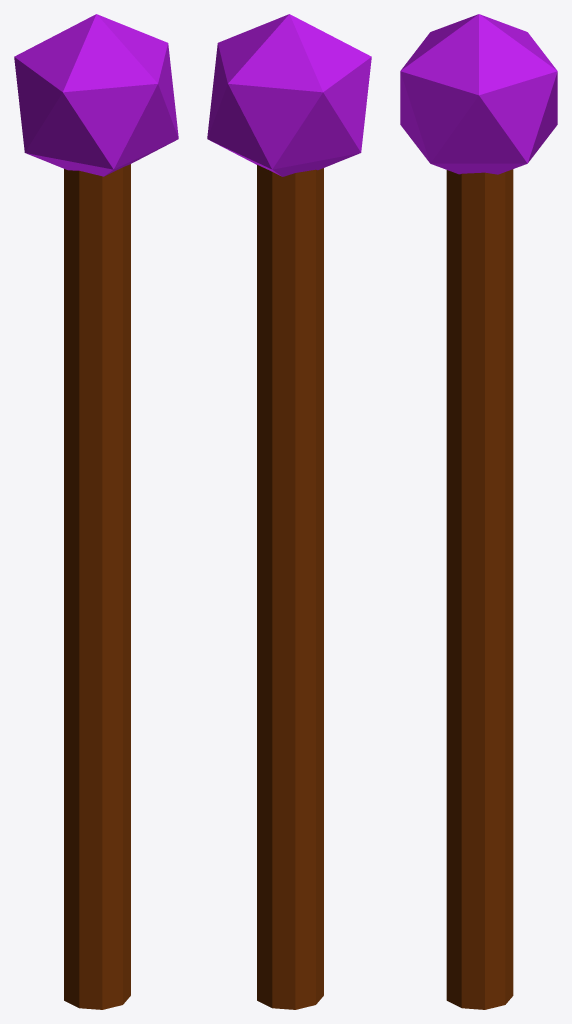
File: wand.fbx
3 views of the same model, side by side, from view 1: azimuth 30°, elevation 25°; view 2: azimuth 150°, elevation 25°; view 3: azimuth 270°, elevation 25° (orthographic).
Parts seen in each view (by area): view 1: Cylinder; view 2: Cylinder; view 3: Cylinder.
Boxes of the visible parts, x1,y1,x2,y2 form: Cylinder: (14, 14, 178, 1009); Cylinder: (207, 14, 371, 1009); Cylinder: (400, 14, 557, 1009).
Size of the model in its own units: 35.78 by 234 by 34.03.
